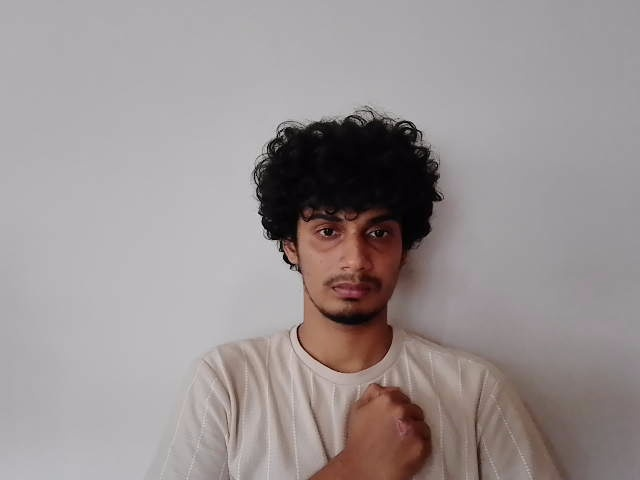sorry: (331, 330, 507, 480)
